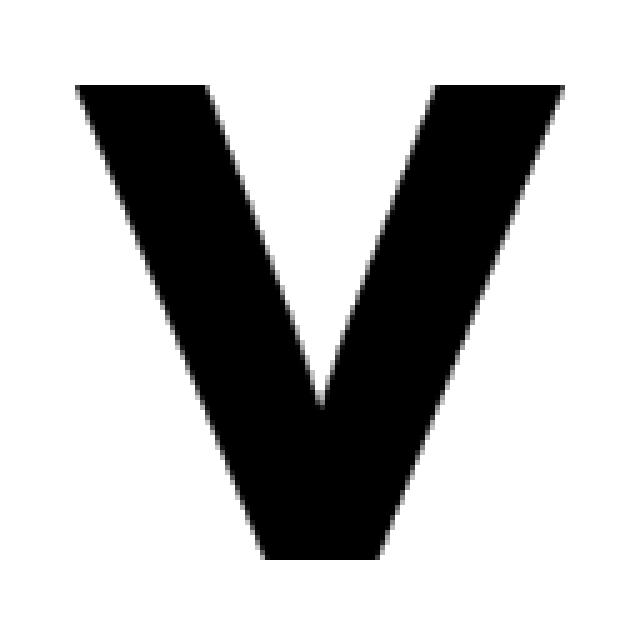V: (65, 70, 565, 565)
